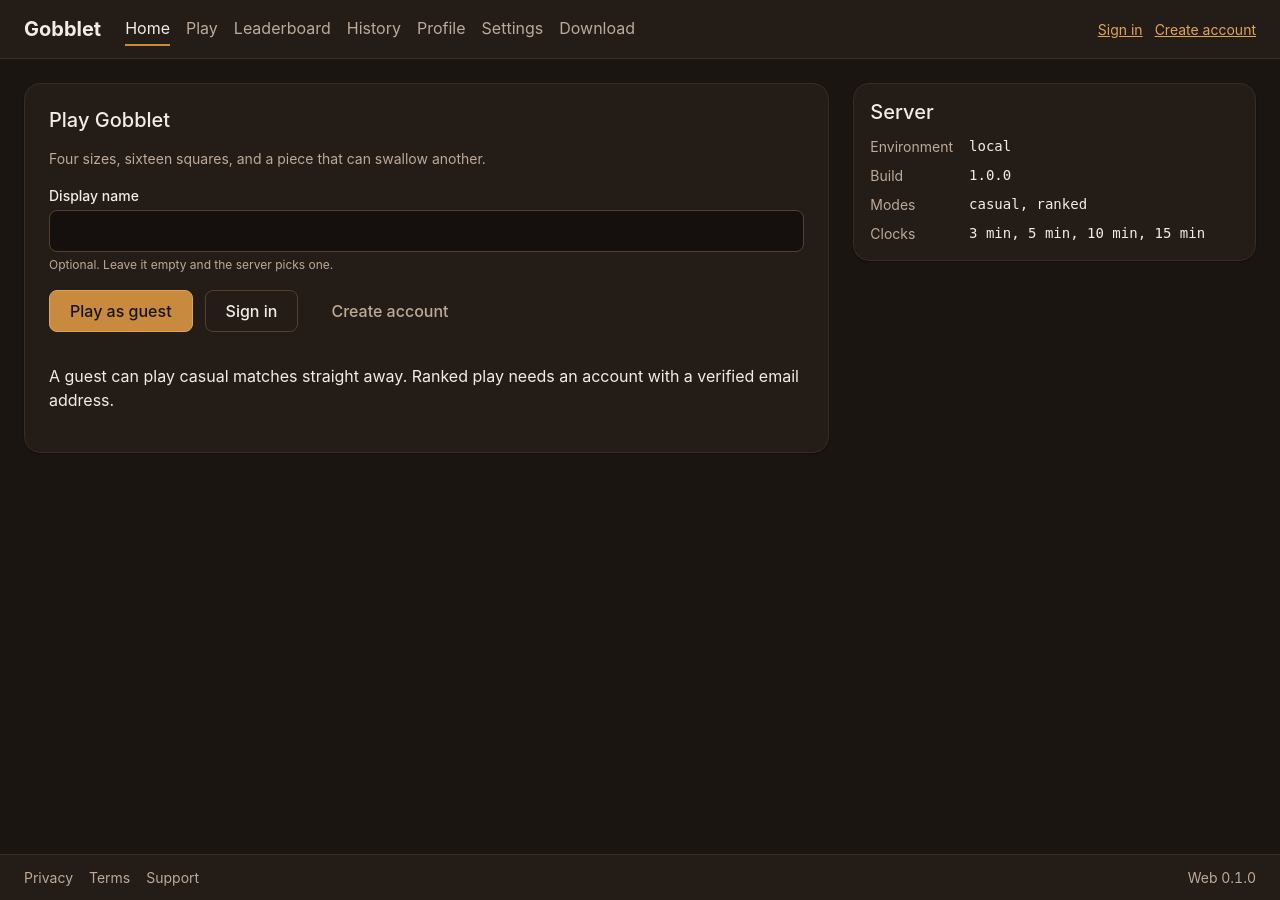
home screen › offers a guest session and remembers it
Click the button with test id "play-as-guest" at (121, 311), box [49,290,193,332]
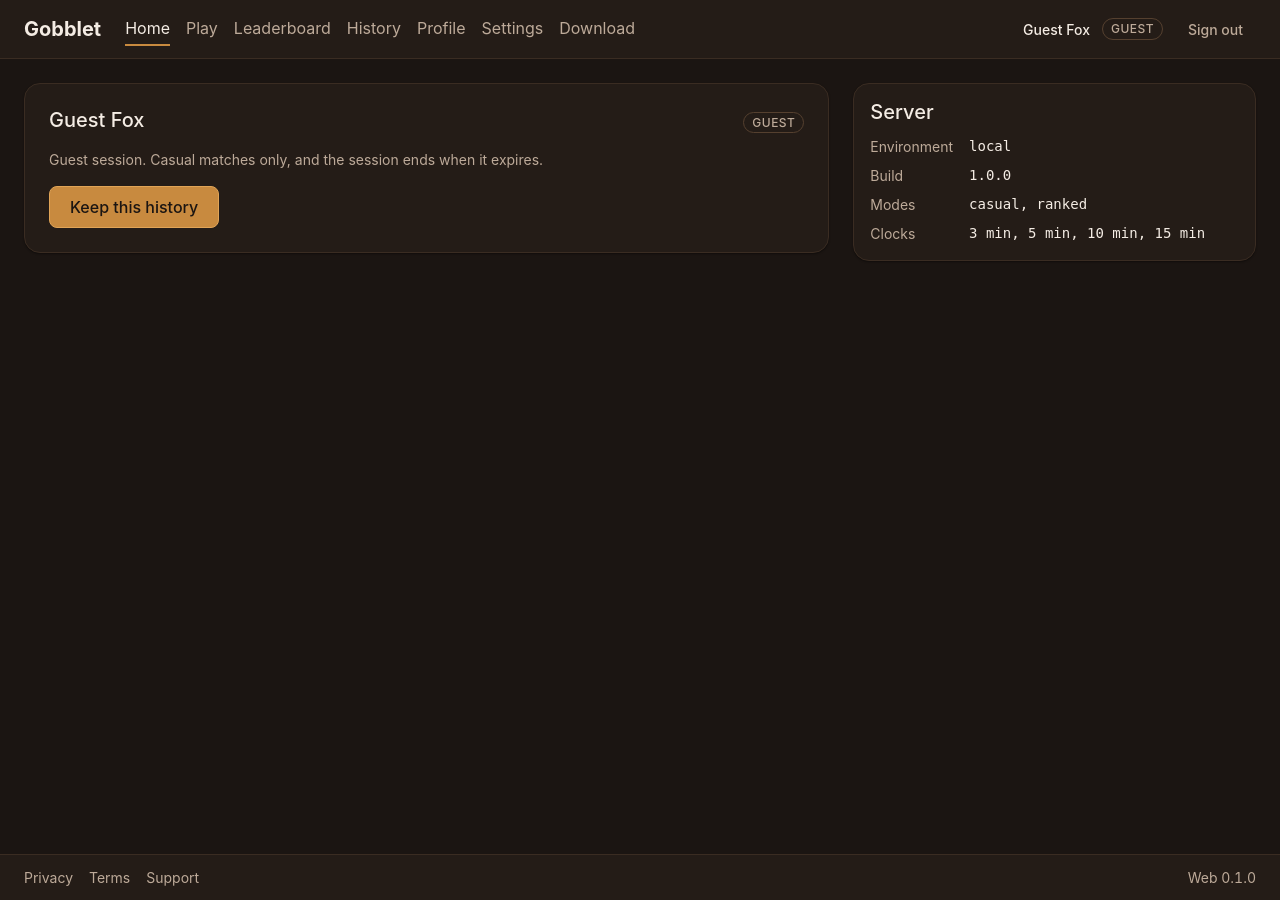
Now the text with test id "identity-name" reads "Guest Fox", box [1023,20,1090,38]
